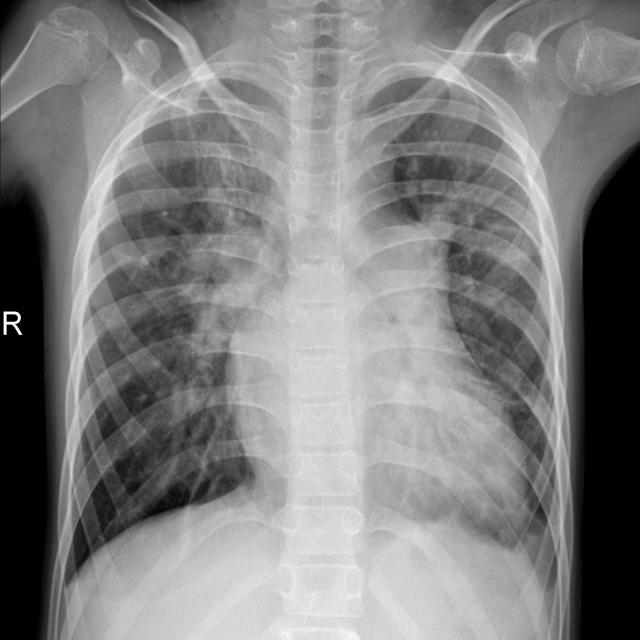low-pneumonia: (165, 187, 285, 440), (174, 59, 298, 182), (413, 147, 529, 275)
